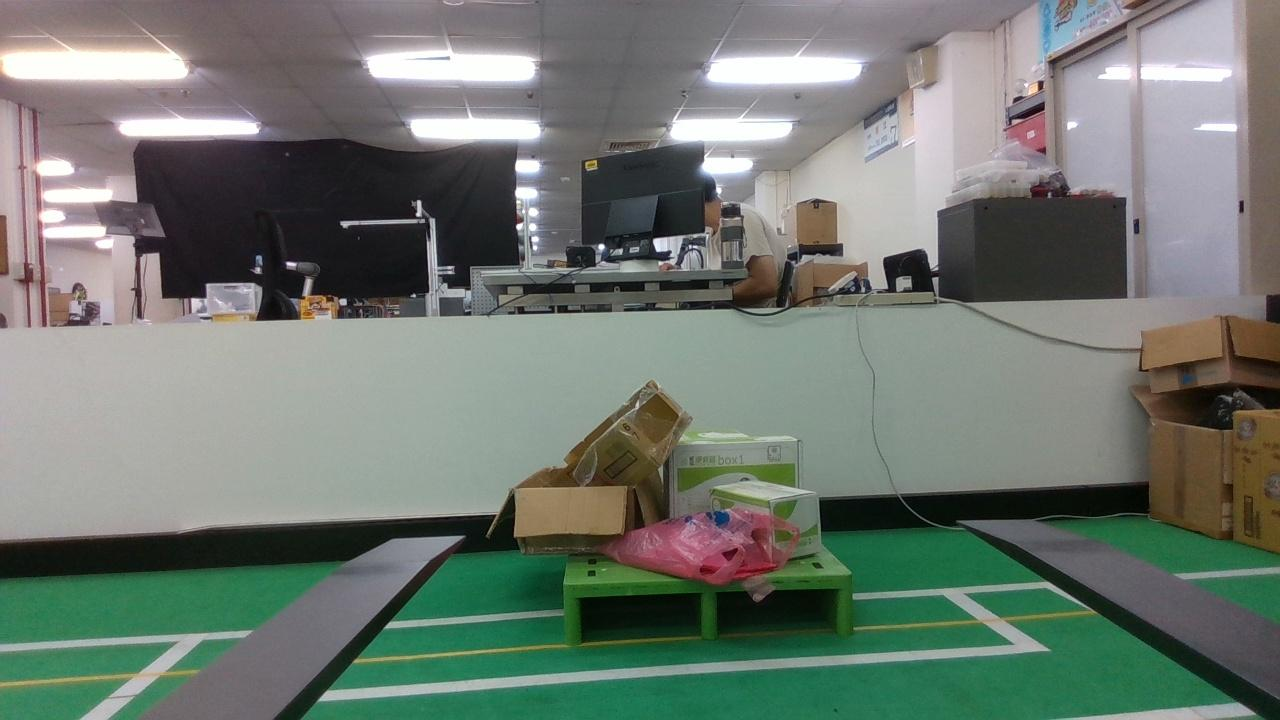Pallet: (562, 574, 853, 645)
